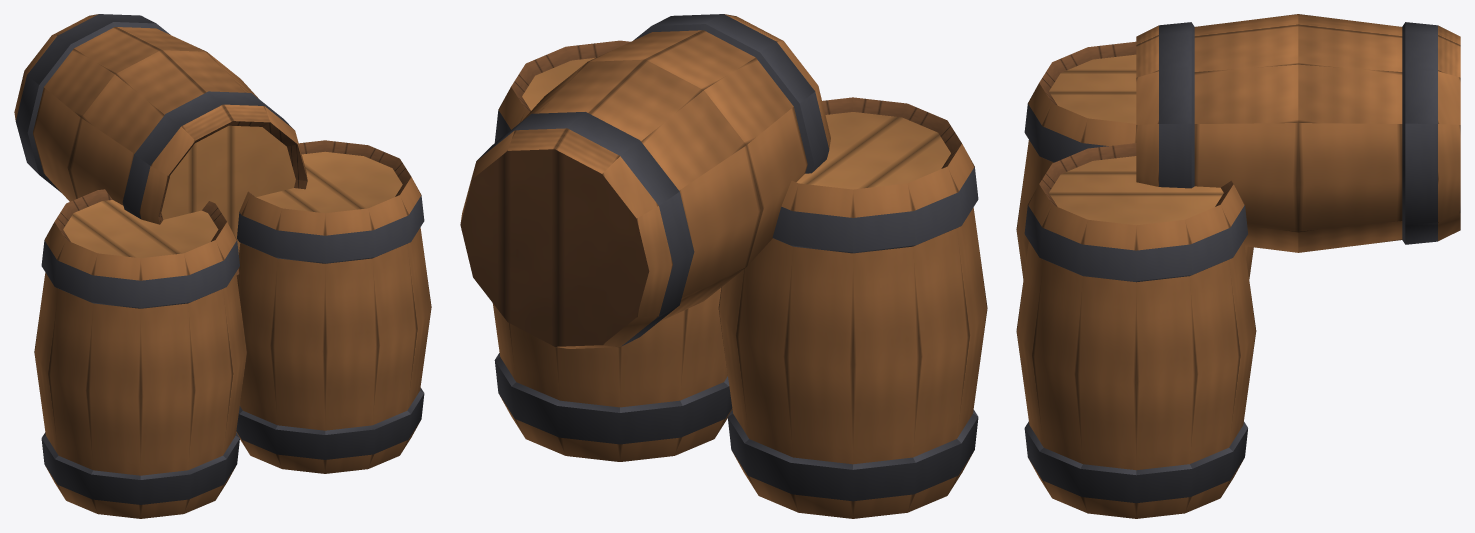
File: prop_barrel_stack_01.glb
3 views of the same model, side by side, from view 1: azimuth 30°, elevation 25°; view 2: azimuth 150°, elevation 25°; view 3: azimuth 270°, elevation 25° (orthographic). The views are drawn at different scales.
Visible parts, largest first — view 1: prop_barrel_stack_01; view 2: prop_barrel_stack_01; view 3: prop_barrel_stack_01.
Boxes of the visible parts, box(x1,y1,x2,y2) form: prop_barrel_stack_01: box(14, 14, 431, 518); prop_barrel_stack_01: box(460, 14, 987, 518); prop_barrel_stack_01: box(1016, 14, 1460, 518).
Size of the model in its own units: 1.48 by 1.37 by 1.37.
Materials: 1 (1 with a texture image).
